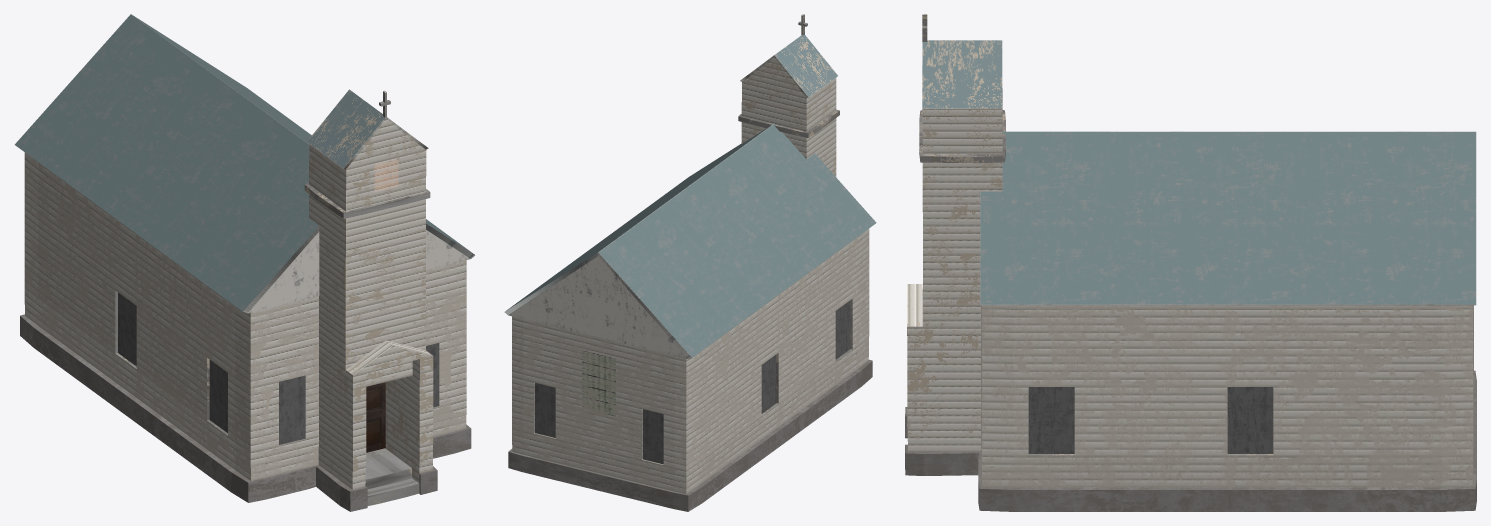
The model's file is church.fbx.
3 views of the same model, side by side, from view 1: azimuth 30°, elevation 25°; view 2: azimuth 150°, elevation 25°; view 3: azimuth 270°, elevation 25° (orthographic). The views are drawn at different scales.
Parts seen in each view (by area): view 1: Plane.005, Plane.012, Plane, Plane.009, Plane.003, Plane.006; view 2: Plane.012, Plane.005, Plane, Plane.009, Plane.003; view 3: Plane.005, Plane.012, Plane, Plane.009, Plane.003.
Boxes of the visible parts, x1=… form: Plane.005: x1=14, y1=14, x2=474, y2=313; Plane.012: x1=24, y1=152, x2=466, y2=480; Plane: x1=115, y1=89, x2=433, y2=505; Plane.009: x1=20, y1=314, x2=471, y2=511; Plane.003: x1=118, y1=292, x2=439, y2=444; Plane.006: x1=366, y1=382, x2=385, y2=452; Plane.012: x1=512, y1=228, x2=869, y2=493; Plane.005: x1=504, y1=123, x2=876, y2=359; Plane: x1=534, y1=14, x2=852, y2=464; Plane.009: x1=508, y1=359, x2=872, y2=511; Plane.003: x1=534, y1=300, x2=850, y2=464; Plane.005: x1=980, y1=131, x2=1476, y2=305; Plane.012: x1=981, y1=305, x2=1473, y2=487; Plane: x1=907, y1=14, x2=1273, y2=455; Plane.009: x1=905, y1=370, x2=1476, y2=511; Plane.003: x1=1028, y1=387, x2=1273, y2=453.
Bounding box in the file's own units: 1853 × 3071 × 3631.
Materials: 22 (22 with a texture image).
